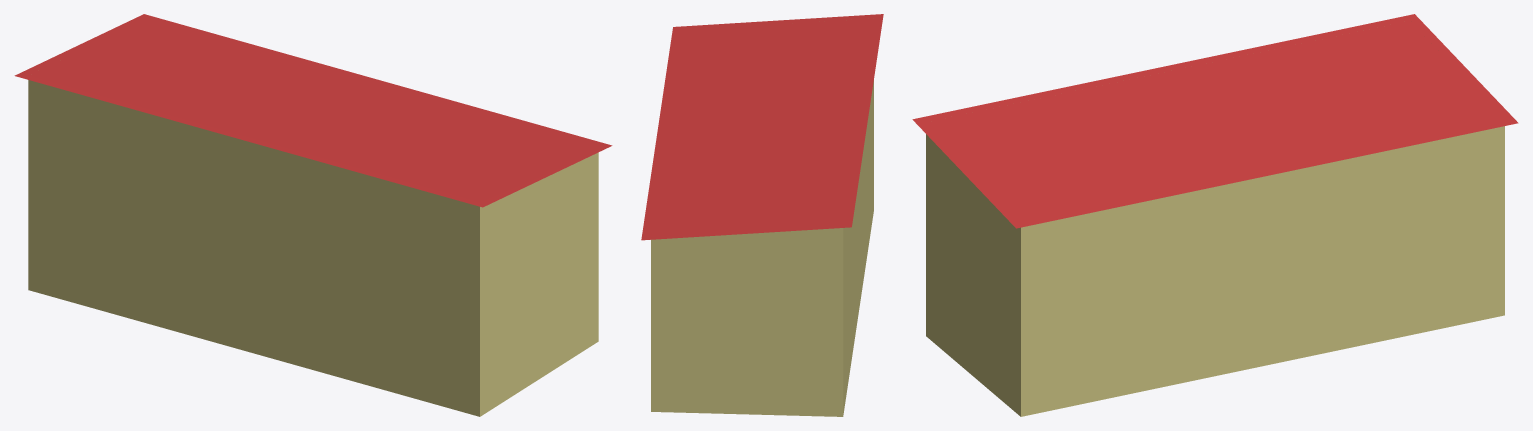
The picture shows the model from 3 angles, left to right: view 1: azimuth 30°, elevation 25°; view 2: azimuth 150°, elevation 25°; view 3: azimuth 270°, elevation 25°; orthographic projection. The views are drawn at different scales.
Bounding box in the file's own units: 11.17 × 14.76 × 5.77.
